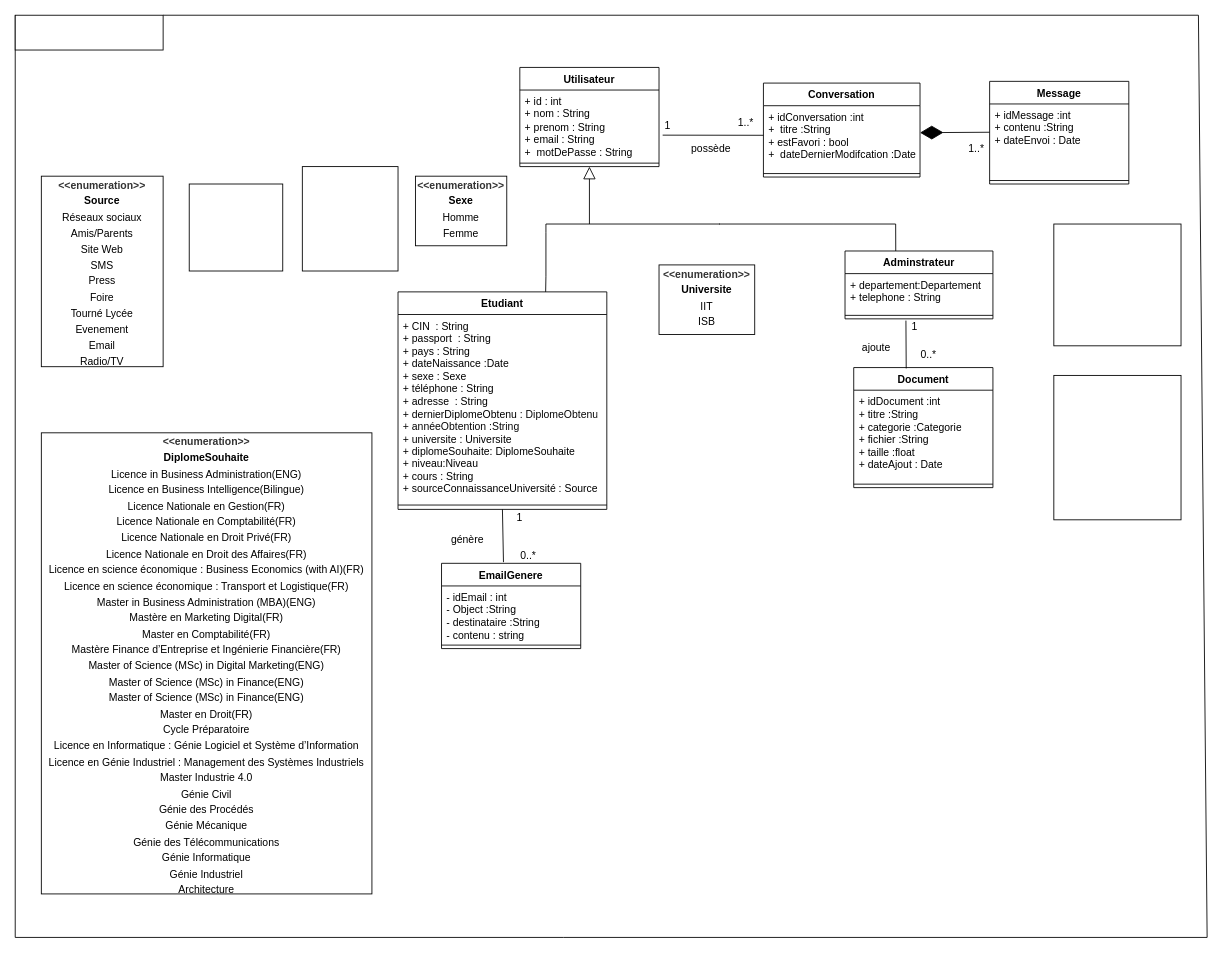
This 1223x954 diagram has some shape labels left out. The centre of each missing label's shape, as x and y in pixels:
<<enumeration>> Categorie: the point at 1117,447
<<enumeration>> Departement: the point at 1117,284
<<enumeration>> Diplome Baccalauréat Prépa Licence Master: the point at 349,218
<<enumeration>> Niveau 1 2 3: the point at 235,227
Diagramme de classe: the point at 88,32
